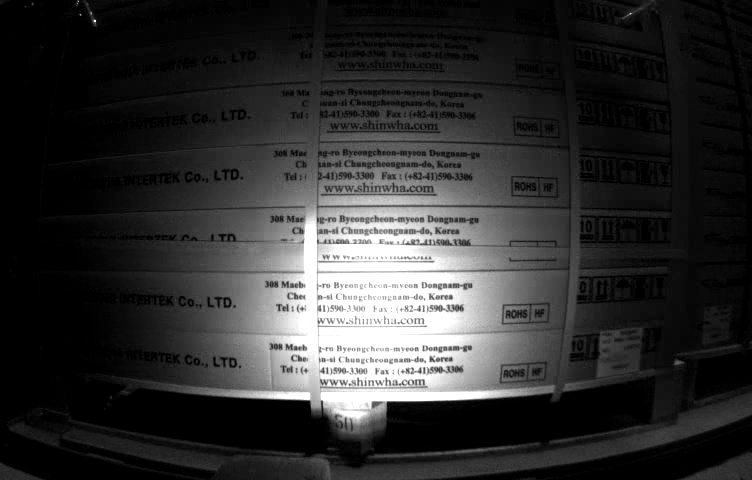True Barcode: (598, 330, 643, 377), (702, 307, 730, 343)
